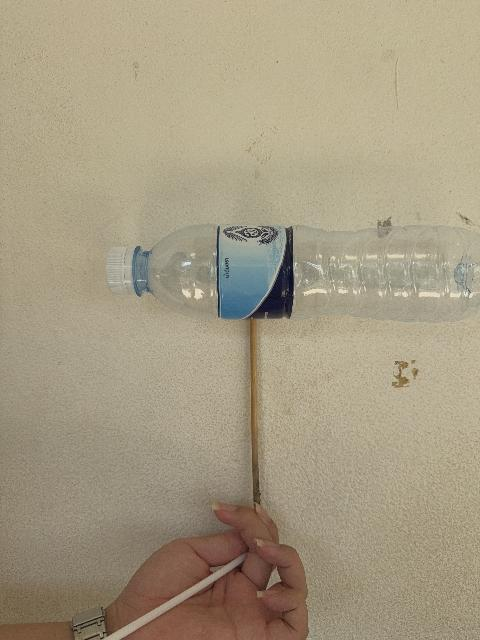bottle: (106, 226, 479, 321)
